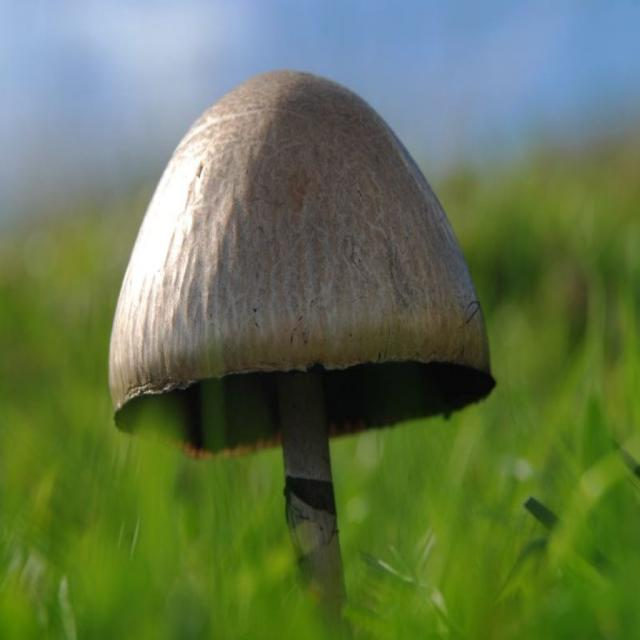Mushroom: (108, 70, 494, 600)
